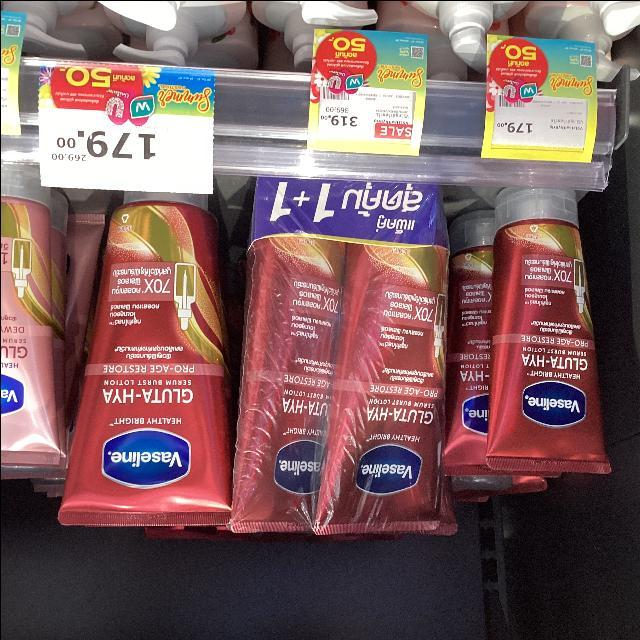Squeeze Tube: (73, 168, 638, 548)
